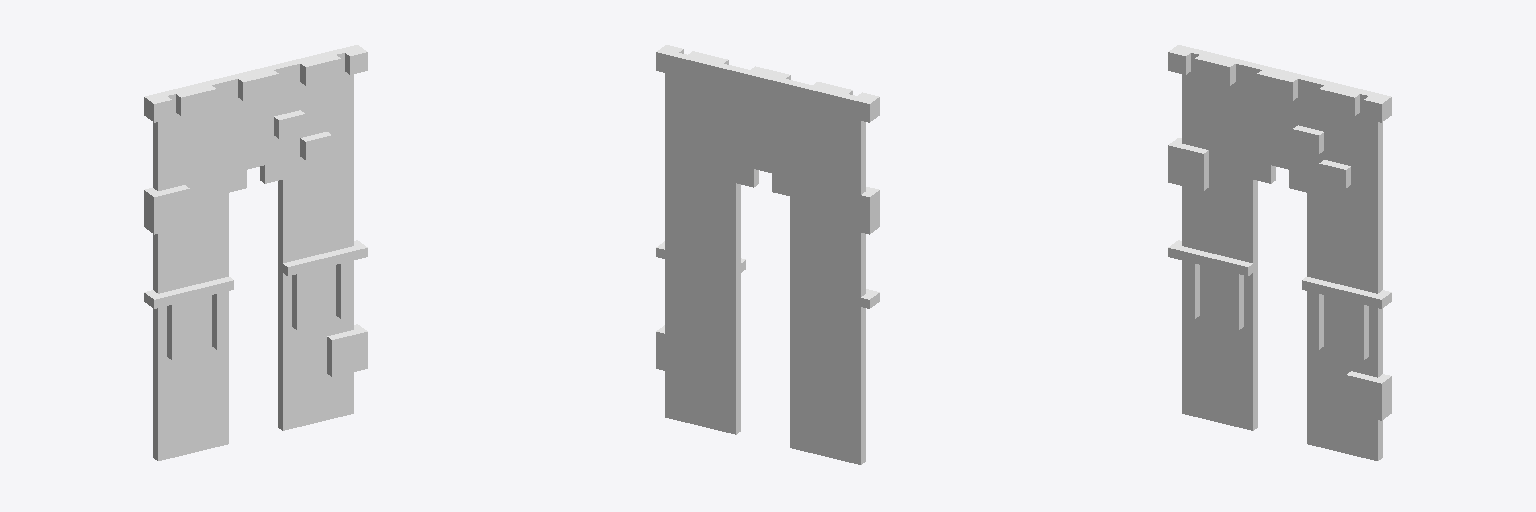
Rendered from SmallBuilding01-0.obj.
The picture shows the model from 3 angles: view 1: azimuth 30°, elevation 25°; view 2: azimuth 150°, elevation 25°; view 3: azimuth 330°, elevation 25°; orthographic projection.
Parts seen in each view (by area): view 1: object 1; view 2: object 1; view 3: object 1.
Part boxes in pixels (left/top/right/bottom): object 1: left=144, top=45, right=367, bottom=460; object 1: left=656, top=45, right=879, bottom=464; object 1: left=1168, top=45, right=1391, bottom=460.
Bounding box in the file's own units: 2.4 × 3.9 × 0.2.